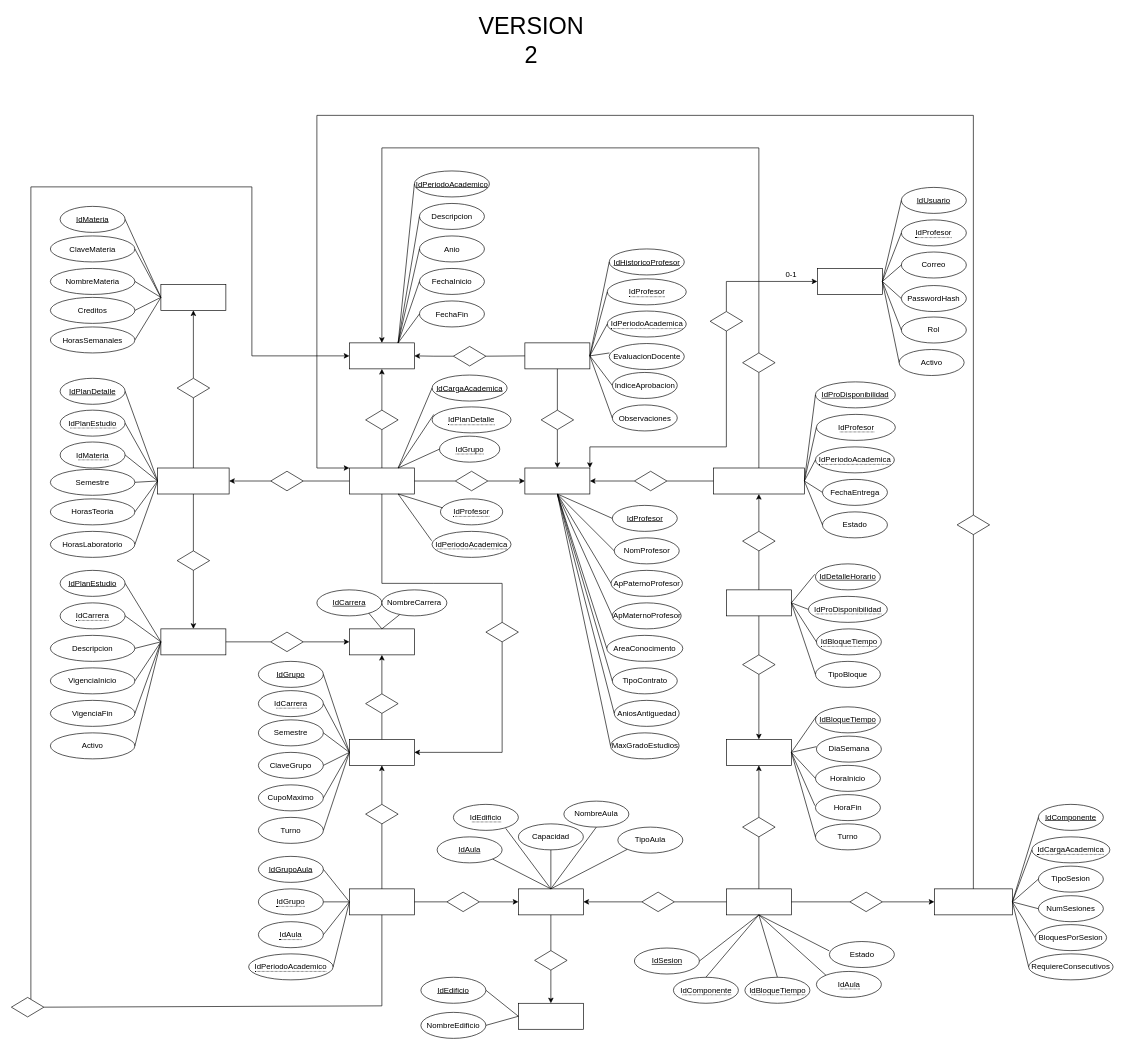
Some shapes in this 1125 by 1050 pixel diagram are drawn without their labels. The centre of each missing label's shape, as x and y in pixels:
"Aula" goes at pixel 550 901.
"BloqueTiempo" goes at pixel 758 752.
"CargaAcademica" goes at pixel 381 480.
"Carrera" goes at pixel 381 641.
"ComponenteCarga" goes at pixel 973 901.
"DetalleHorario" goes at pixel 758 602.
"Edificio" goes at pixel 550 1016.
"Grupo" goes at pixel 381 752.
"GrupoAula" goes at pixel 381 901.
"HistoricoProfesor" goes at pixel 557 355.
"Materia" goes at pixel 193 297.
"PeriodoAcademico" goes at pixel 381 355.
"PlanEstudio" goes at pixel 193 641.
"PlanEstudioDetalle" goes at pixel 193 480.
"Profesor" goes at pixel 557 480.
"PropuestaDisponibilidad" goes at pixel 758 480.
"SesionClase" goes at pixel 758 901.
"Usuario" goes at pixel 849 281.
